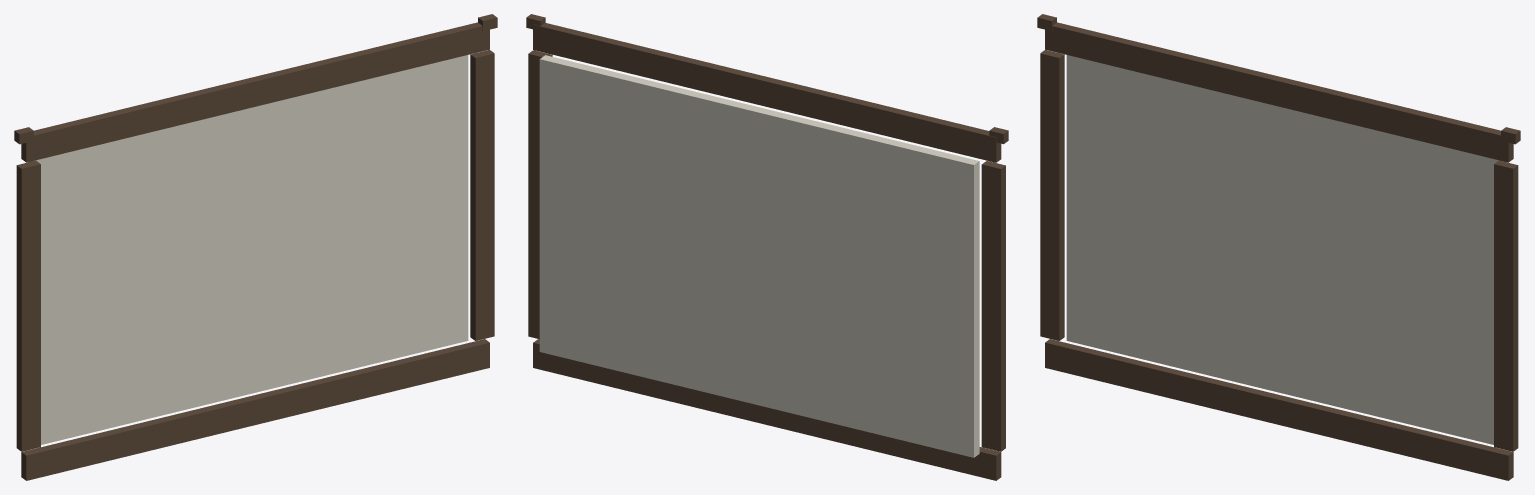
3 views of the same model, side by side, from view 1: azimuth 30°, elevation 25°; view 2: azimuth 150°, elevation 25°; view 3: azimuth 330°, elevation 25° (orthographic).
Visible parts, largest first — view 1: information-back, notice-bottom, notice-top-outer, notice-right, notice-left, notice-top-inner; view 2: information-back, notice-top-outer, notice-bottom, notice-left, notice-top-inner, notice-right; view 3: information-back, notice-bottom, notice-top-outer, notice-left, notice-right, notice-top-inner.
Boxes of the visible parts, x1=… form: information-back: x1=28, y1=55, x2=468, y2=444; notice-bottom: x1=21, y1=339, x2=489, y2=480; notice-top-outer: x1=21, y1=22, x2=489, y2=162; notice-right: x1=470, y1=49, x2=494, y2=340; notice-left: x1=16, y1=160, x2=40, y2=451; notice-top-inner: x1=41, y1=38, x2=475, y2=153; information-back: x1=539, y1=55, x2=979, y2=457; notice-top-outer: x1=533, y1=23, x2=1001, y2=162; notice-bottom: x1=533, y1=339, x2=1001, y2=480; notice-left: x1=981, y1=161, x2=1005, y2=451; notice-top-inner: x1=547, y1=37, x2=981, y2=155; notice-right: x1=528, y1=50, x2=552, y2=339; information-back: x1=1066, y1=55, x2=1506, y2=444; notice-bottom: x1=1045, y1=339, x2=1513, y2=480; notice-top-outer: x1=1045, y1=22, x2=1513, y2=162; notice-left: x1=1040, y1=49, x2=1064, y2=340; notice-right: x1=1494, y1=160, x2=1518, y2=451; notice-top-inner: x1=1059, y1=37, x2=1493, y2=154.
Bounding box in the file's own units: 0.99 × 0.69 × 0.047.
